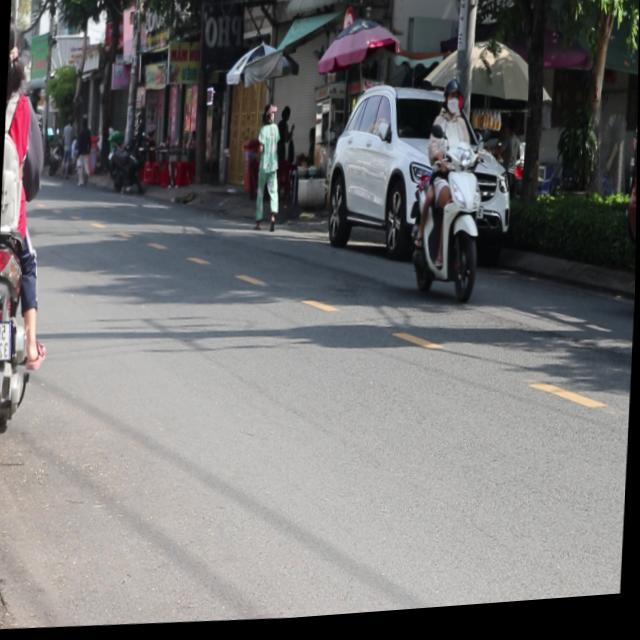helmet: (443, 82, 463, 123)
licenseplate: (0, 2, 63, 468), (408, 78, 491, 313)
motorcyclist: (7, 7, 24, 87)
nohelmet: (0, 321, 11, 359)
